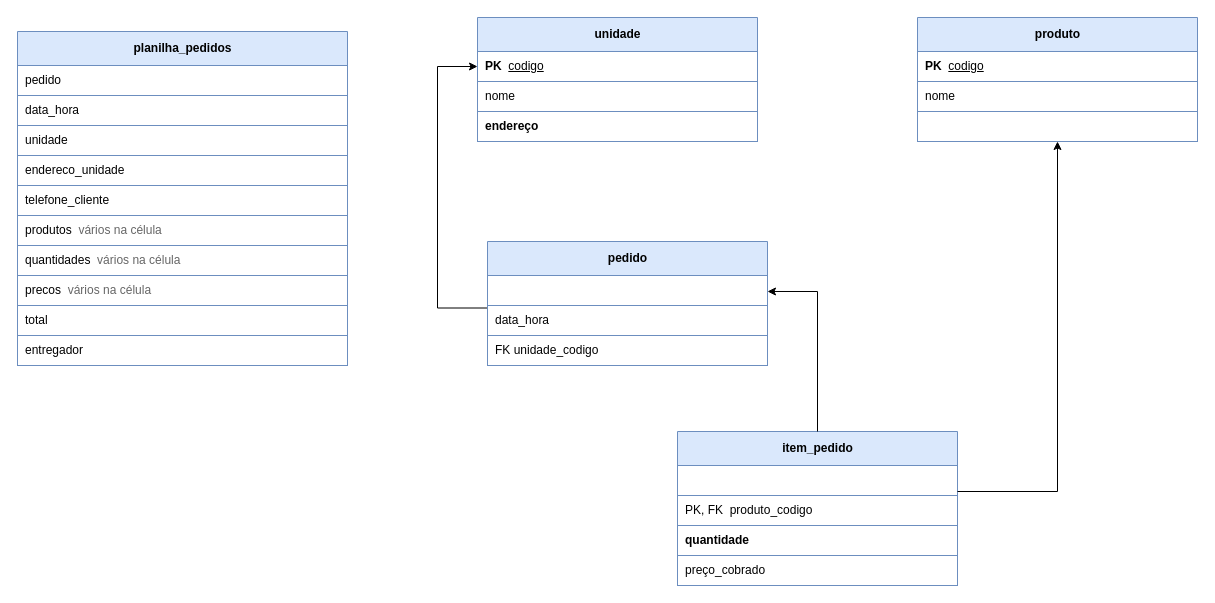
Image size: 1215x603. Some labels were removed from this diagram. Each missing label, with the centre of its shape:
"PK numero" belongs at point (627, 290).
"PK, FK pedido_numero" belongs at point (817, 480).
"preço_tabela" belongs at point (1057, 126).
